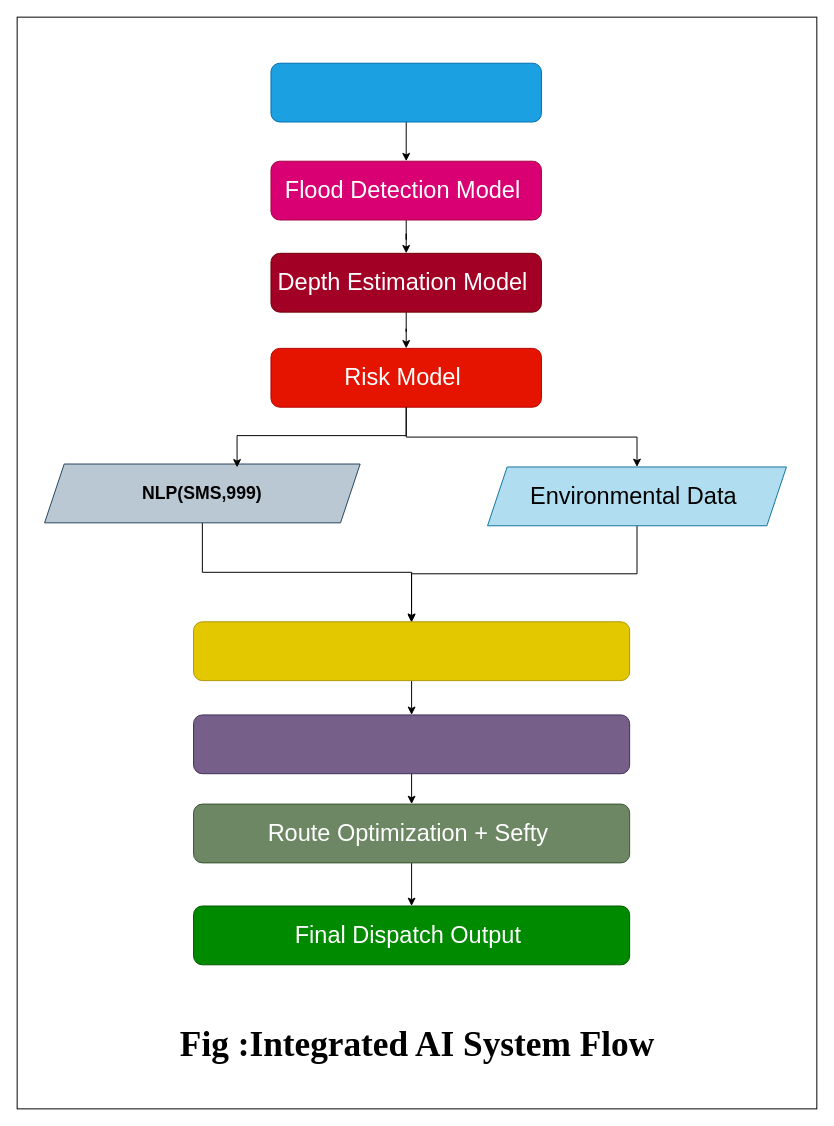
Some shapes in this 834 by 1126 pixel diagram are drawn without their labels. Here are the shapes that lost their labels. From the top down, the box of each, then its label:
(270, 62, 541, 122): Satellite Data (SAR)
(193, 621, 630, 681): Incident Generation Engine
(193, 714, 630, 774): Resource Allocation Model
